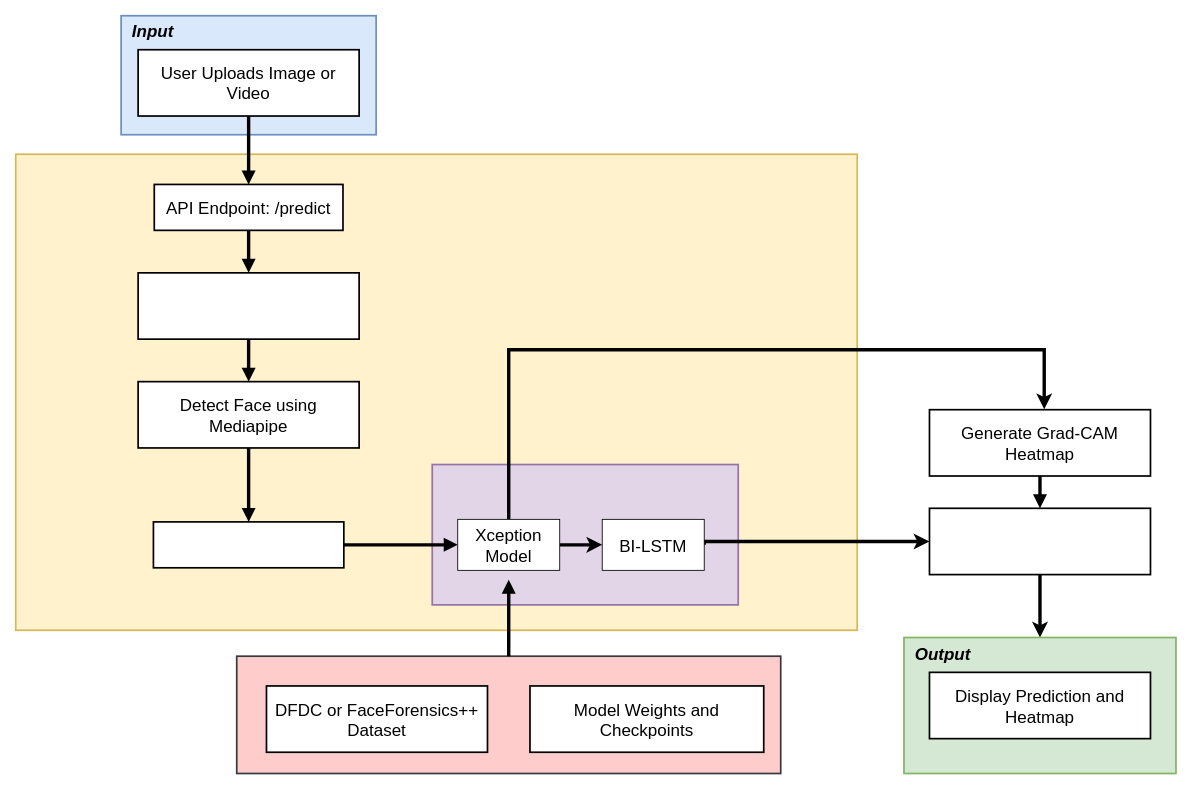
Some shapes in this 1191 by 789 pixel diagram are drawn without their labels. Here are the shapes that lost their labels. From the top down, the box of each, then its label:
(137, 272, 360, 340): Extract Frames with OpenCV
(14, 153, 858, 631): Python Backend - Flask
(152, 521, 344, 568): Resize and Crop Frame
(431, 463, 739, 605): Machine Learning Models
(928, 507, 1151, 575): Return Prediction and Heatmap
(235, 655, 781, 774): Training Data
